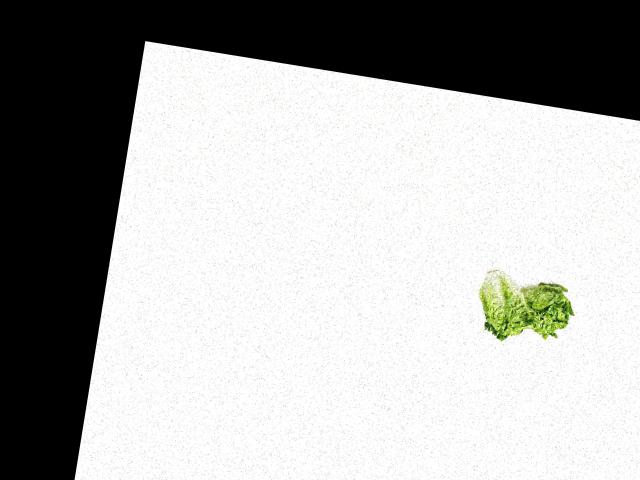lettuce: (509, 270, 579, 343)
